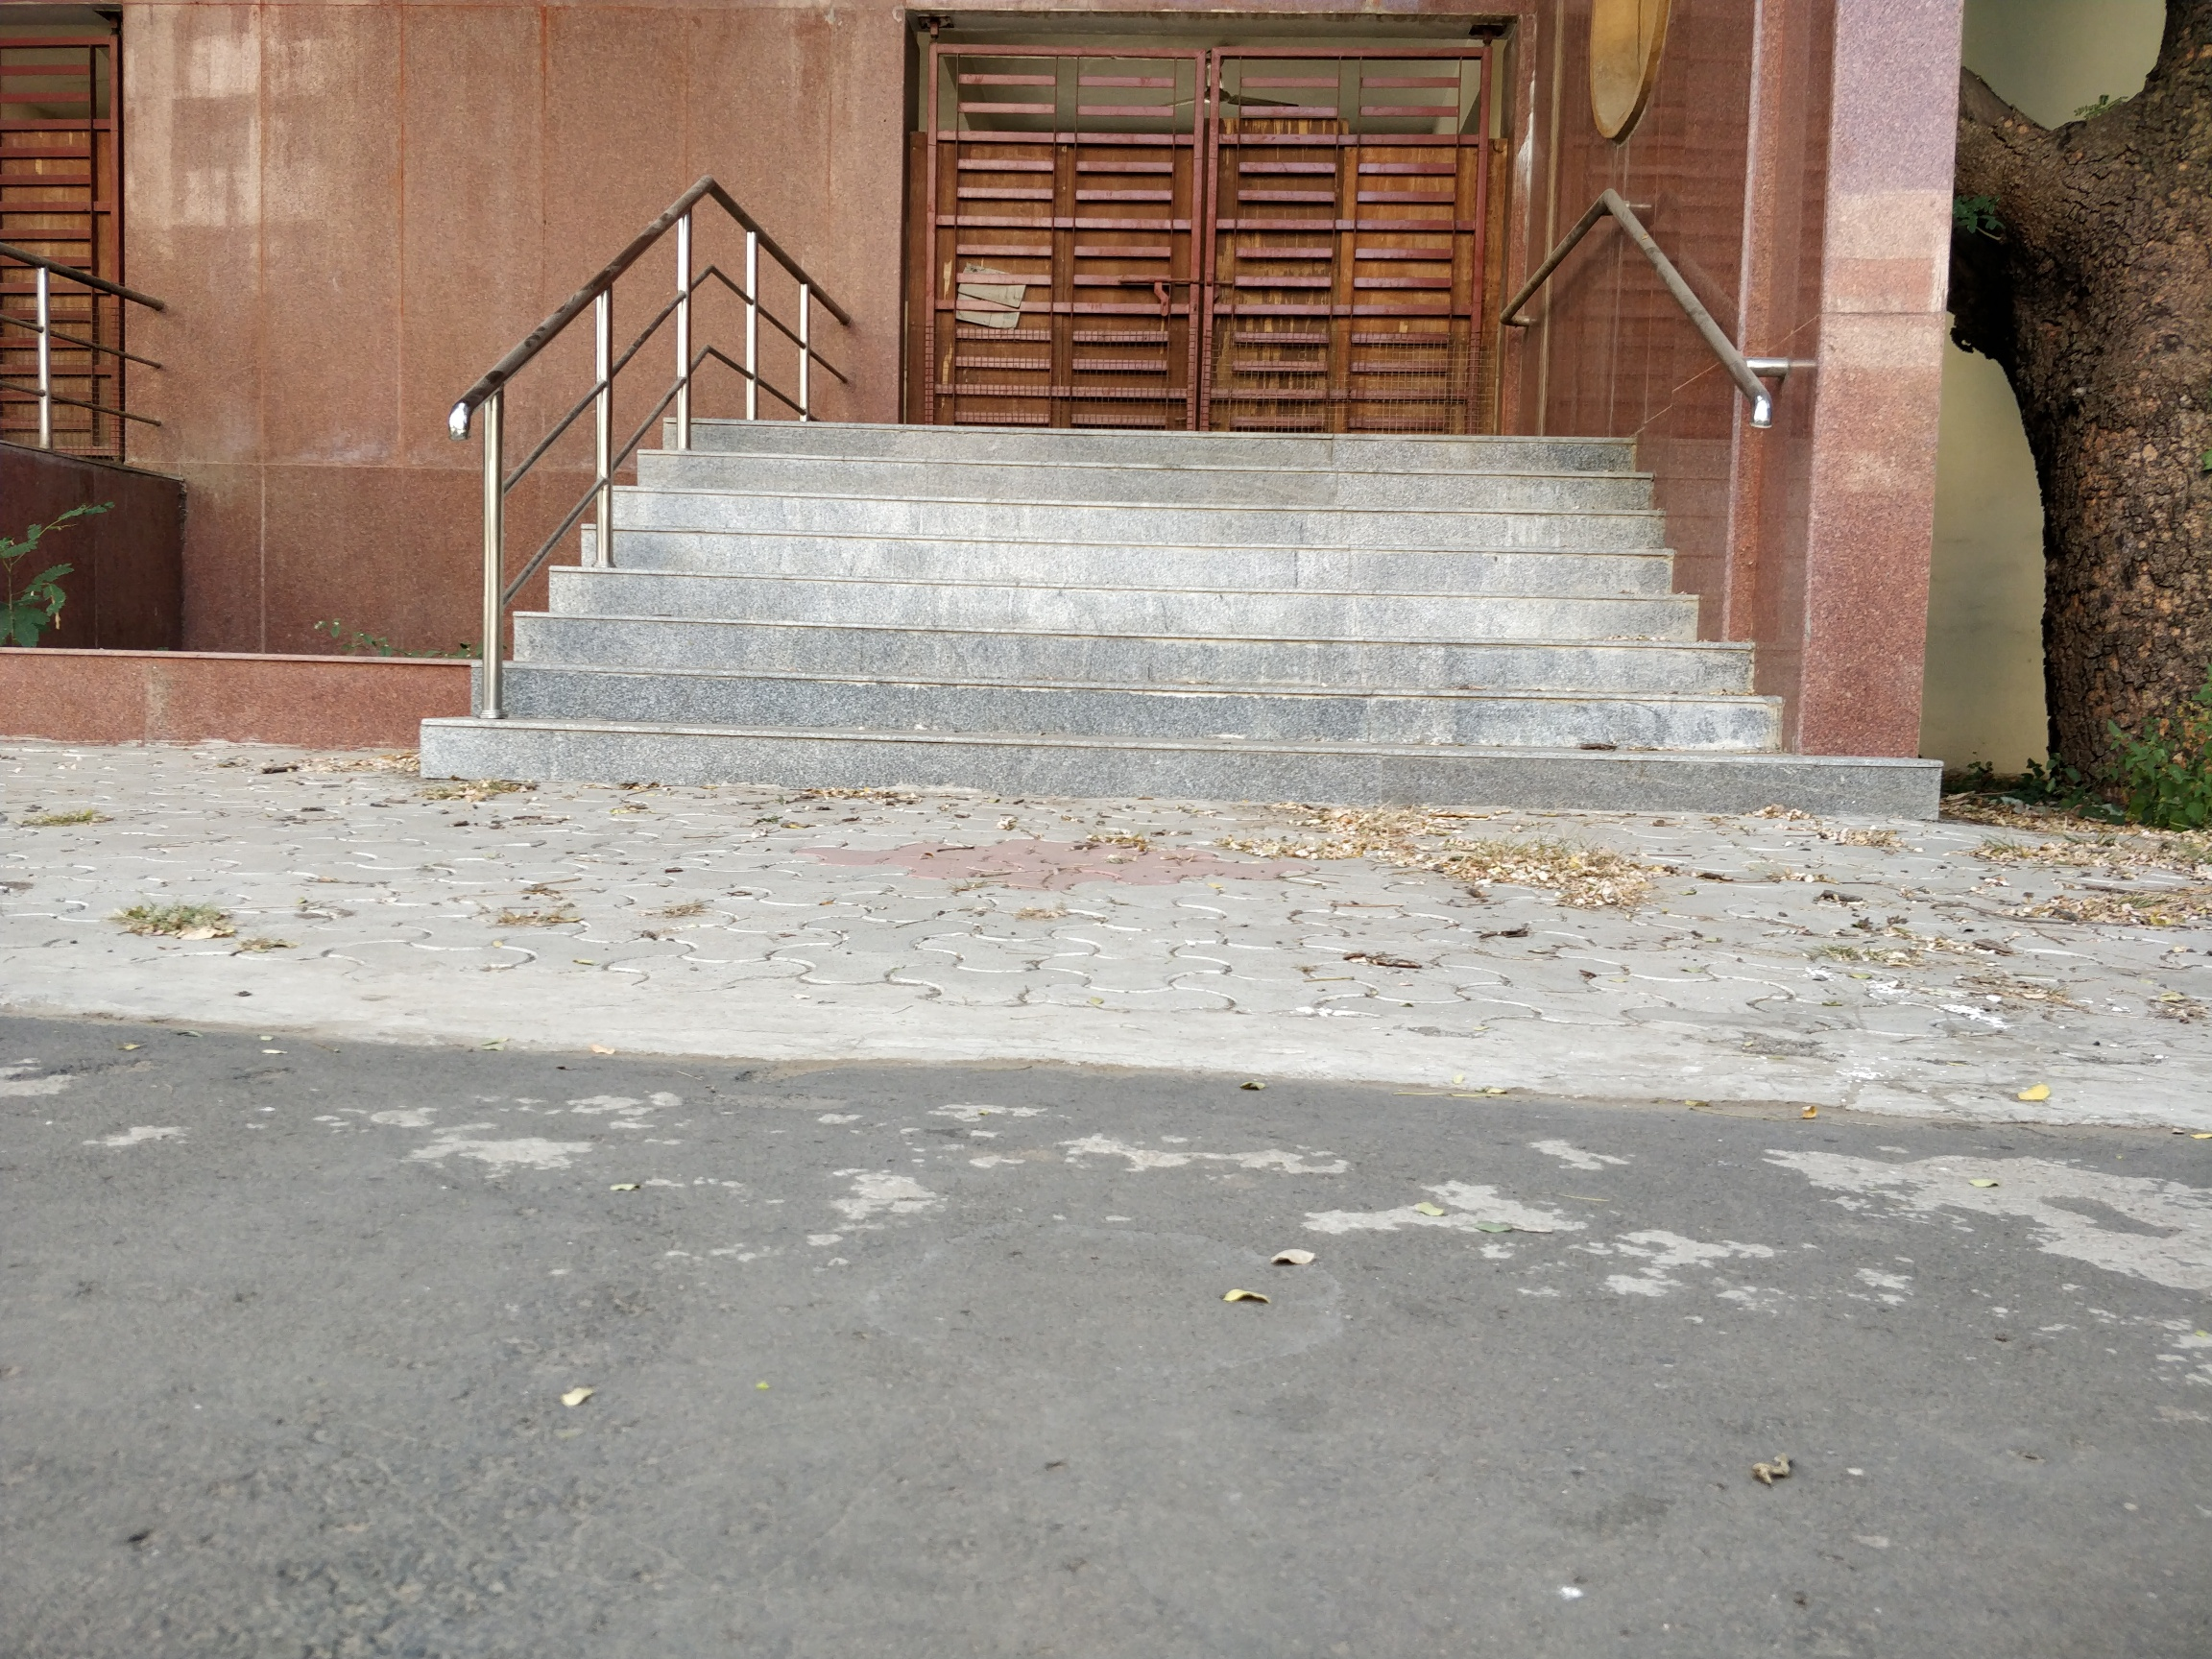stairs_up: (486, 416, 1662, 762)
